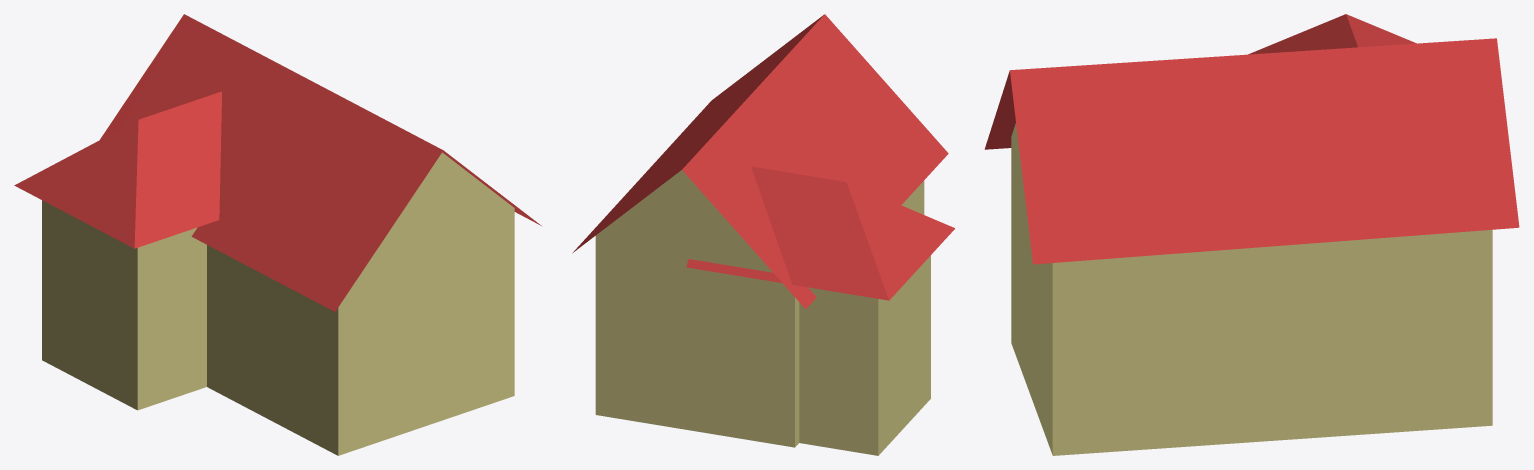
The picture shows the model from 3 angles, left to right: view 1: azimuth 30°, elevation 25°; view 2: azimuth 150°, elevation 25°; view 3: azimuth 270°, elevation 25°; orthographic projection. The views are drawn at different scales.
Size of the model in its own units: 20.86 by 22.72 by 15.65.
